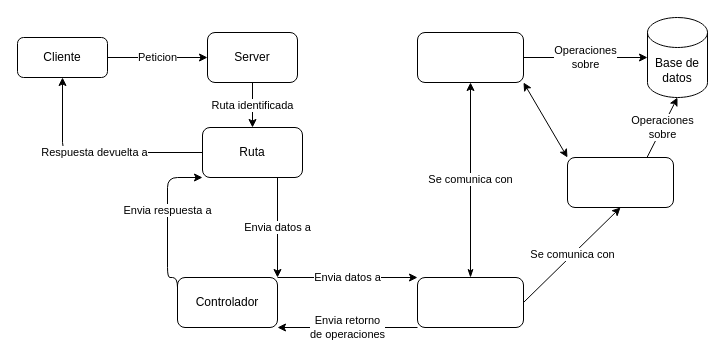
This 725x358 diagram has some shape labels left out. The centre of each missing label's shape, as x and y in pixels:
"Clases de entidad" belongs at pixel 470 57.
"ORM" belongs at pixel 620 182.
"Servicio" belongs at pixel 470 302.
